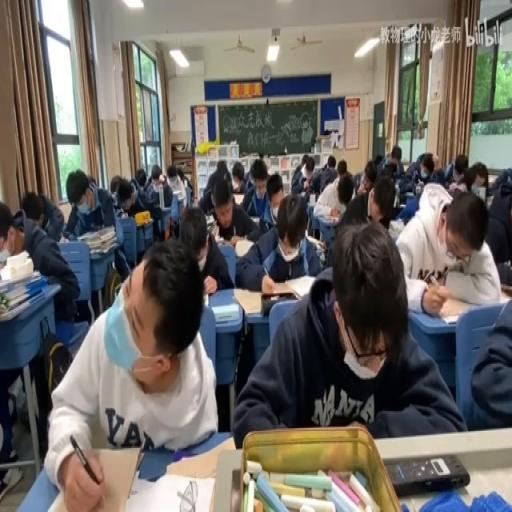calculator: (44, 445, 142, 512), (124, 469, 216, 509), (165, 434, 233, 480), (232, 279, 307, 314), (0, 292, 39, 322), (0, 266, 40, 292), (210, 302, 240, 322), (234, 236, 256, 256), (306, 232, 326, 249), (318, 212, 341, 225), (204, 213, 216, 235), (134, 213, 154, 226), (214, 232, 232, 246), (442, 310, 460, 323), (472, 184, 486, 200), (230, 192, 245, 205), (499, 283, 511, 299), (389, 219, 403, 232), (0, 248, 9, 263), (249, 214, 261, 224), (59, 233, 69, 243), (397, 202, 407, 212), (202, 290, 208, 304), (486, 194, 492, 208), (299, 189, 308, 198), (405, 191, 414, 199), (309, 192, 316, 202)
paper: (232, 219, 459, 442), (0, 192, 81, 457), (467, 290, 512, 431), (176, 199, 229, 293), (63, 168, 117, 237), (484, 172, 512, 269), (344, 172, 392, 228), (0, 404, 24, 501), (242, 158, 276, 222), (399, 151, 437, 199), (200, 160, 234, 208), (0, 199, 26, 258), (144, 163, 174, 212), (304, 154, 337, 196), (444, 155, 470, 193), (43, 200, 66, 240), (176, 165, 194, 198), (336, 174, 354, 206), (230, 160, 244, 194), (267, 189, 283, 213), (117, 189, 133, 212), (108, 175, 122, 200), (363, 161, 377, 186), (473, 164, 486, 188), (382, 161, 396, 179), (134, 166, 146, 186), (391, 146, 402, 164), (430, 152, 439, 171), (337, 160, 347, 176), (422, 164, 432, 180), (167, 171, 177, 186), (357, 179, 366, 195), (373, 154, 382, 168), (326, 155, 335, 168), (87, 175, 95, 186), (300, 155, 307, 165), (384, 151, 390, 162)
person: (384, 452, 470, 494), (230, 466, 242, 510)
